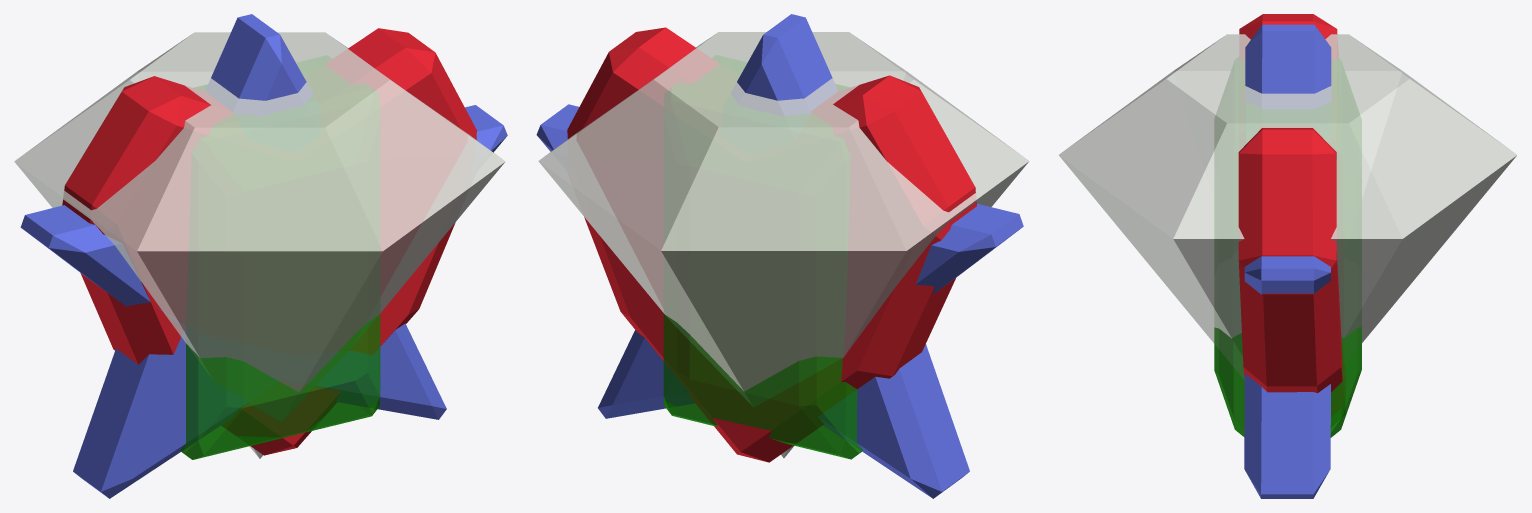
The model's file is crystal.glb.
3 renders of one model, left to right at view 1: azimuth 30°, elevation 25°; view 2: azimuth 150°, elevation 25°; view 3: azimuth 270°, elevation 25°, orthographic. The views are drawn at different scales.
Parts seen in each view (by area): view 1: Diamond, Heart, Star, Emerald; view 2: Diamond, Heart, Star, Emerald; view 3: Diamond, Heart, Star, Emerald.
Boxes of the visible parts, left/top/right/bottom form: Diamond: left=14, top=32, right=505, bottom=458; Heart: left=62, top=28, right=476, bottom=455; Star: left=20, top=14, right=507, bottom=498; Emerald: left=180, top=55, right=380, bottom=459; Diamond: left=538, top=32, right=1029, bottom=458; Heart: left=567, top=27, right=976, bottom=462; Star: left=536, top=14, right=1023, bottom=498; Emerald: left=663, top=55, right=862, bottom=459; Diamond: left=1059, top=34, right=1516, bottom=379; Heart: left=1238, top=14, right=1344, bottom=416; Star: left=1244, top=24, right=1331, bottom=498; Emerald: left=1214, top=57, right=1361, bottom=437.
Size of the model in its own units: 5.85 by 5.27 by 5.42.
